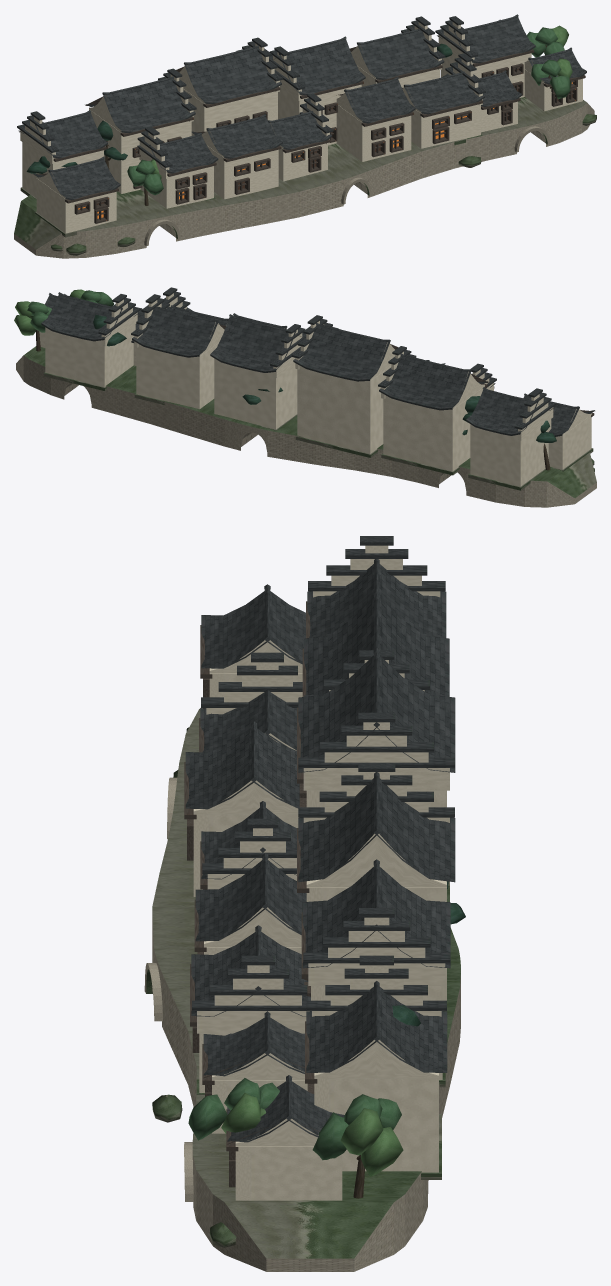
File: jiangnan_watertown_horizon.glb
3 renders of one model, top to bottom at view 1: azimuth 30°, elevation 25°; view 2: azimuth 150°, elevation 25°; view 3: azimuth 270°, elevation 25°, orthographic. The views are drawn at different scales.
Visible parts, largest first — view 1: jiangnan_watertown_horizon; view 2: jiangnan_watertown_horizon; view 3: jiangnan_watertown_horizon.
Boxes of the visible parts, left/top/right/bottom form: jiangnan_watertown_horizon: left=14, top=14, right=596, bottom=258; jiangnan_watertown_horizon: left=14, top=287, right=596, bottom=507; jiangnan_watertown_horizon: left=144, top=536, right=465, bottom=1271.
Size of the model in its own units: 64 by 14.2 by 16.
2 materials, 2 textured.
